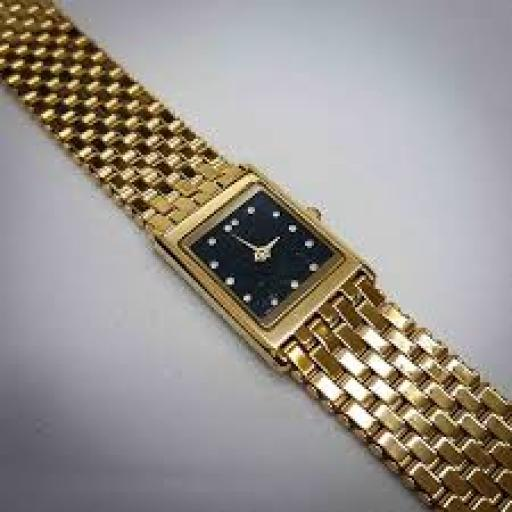KolSaati: (2, 1, 512, 512)
